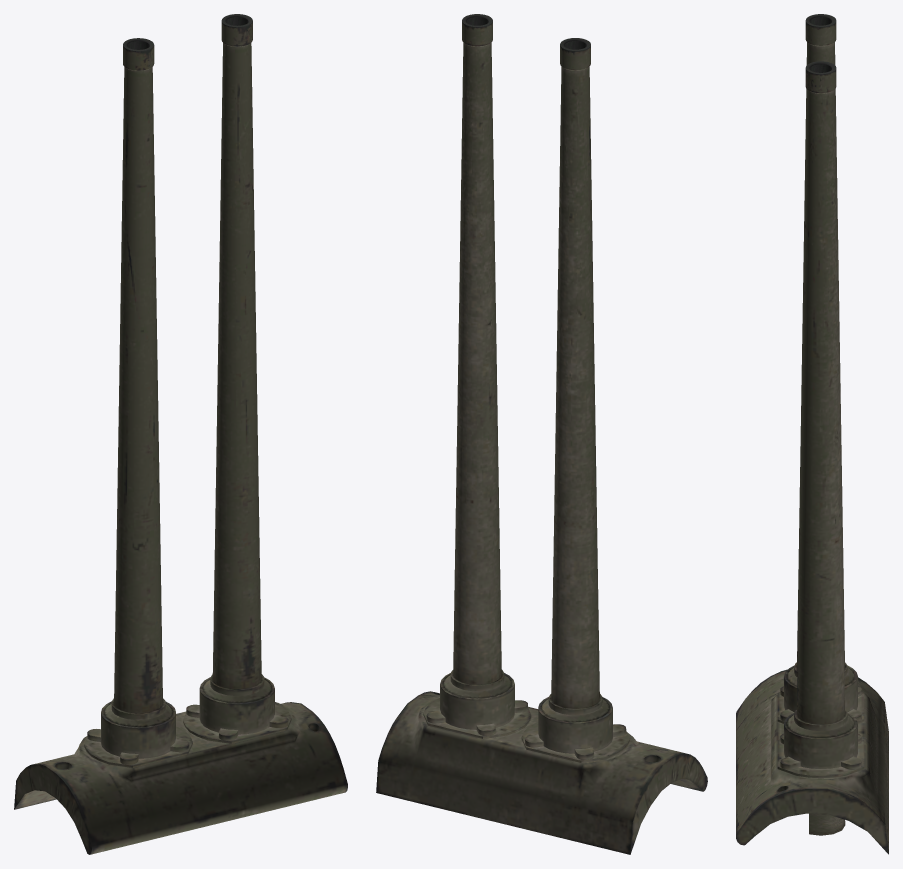
Rendered from Gun_01.glb.
3 views of the same model, side by side, from view 1: azimuth 30°, elevation 25°; view 2: azimuth 150°, elevation 25°; view 3: azimuth 270°, elevation 25° (orthographic).
Parts seen in each view (by area): view 1: set_0_group_0; view 2: set_0_group_0; view 3: set_0_group_0.
Part boxes in pixels (x1,y1,x2,y2): set_0_group_0: (14,14,347,854); set_0_group_0: (376,14,707,854); set_0_group_0: (736,14,888,854).
Bounding box in the file's own units: 1.14 × 3.28 × 0.6007.
1 material, 1 textured.
